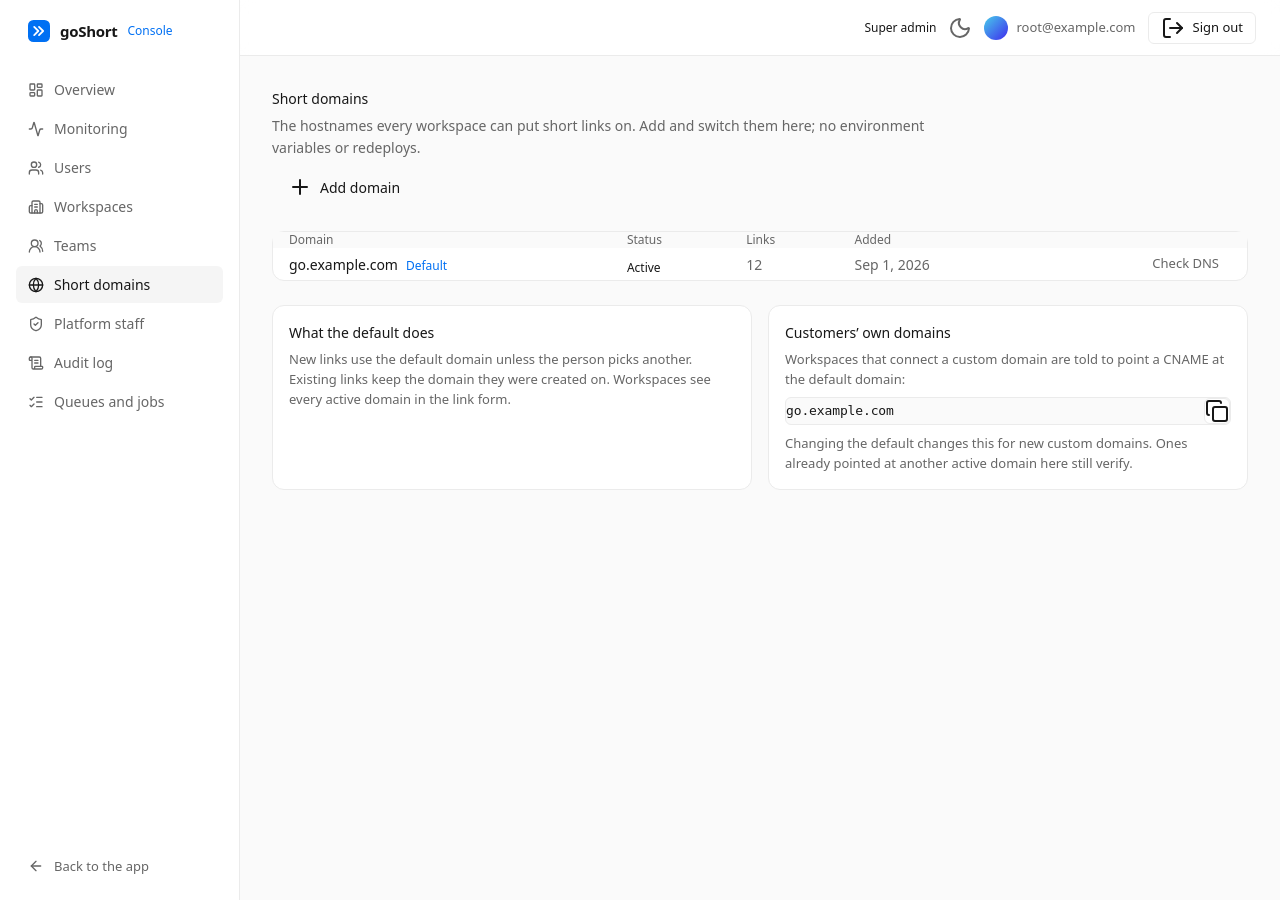
Test: short domains › shows the server’s reason on the field when the name is taken
Click the button "Add domain" at (344, 187), box [272,175,416,199]
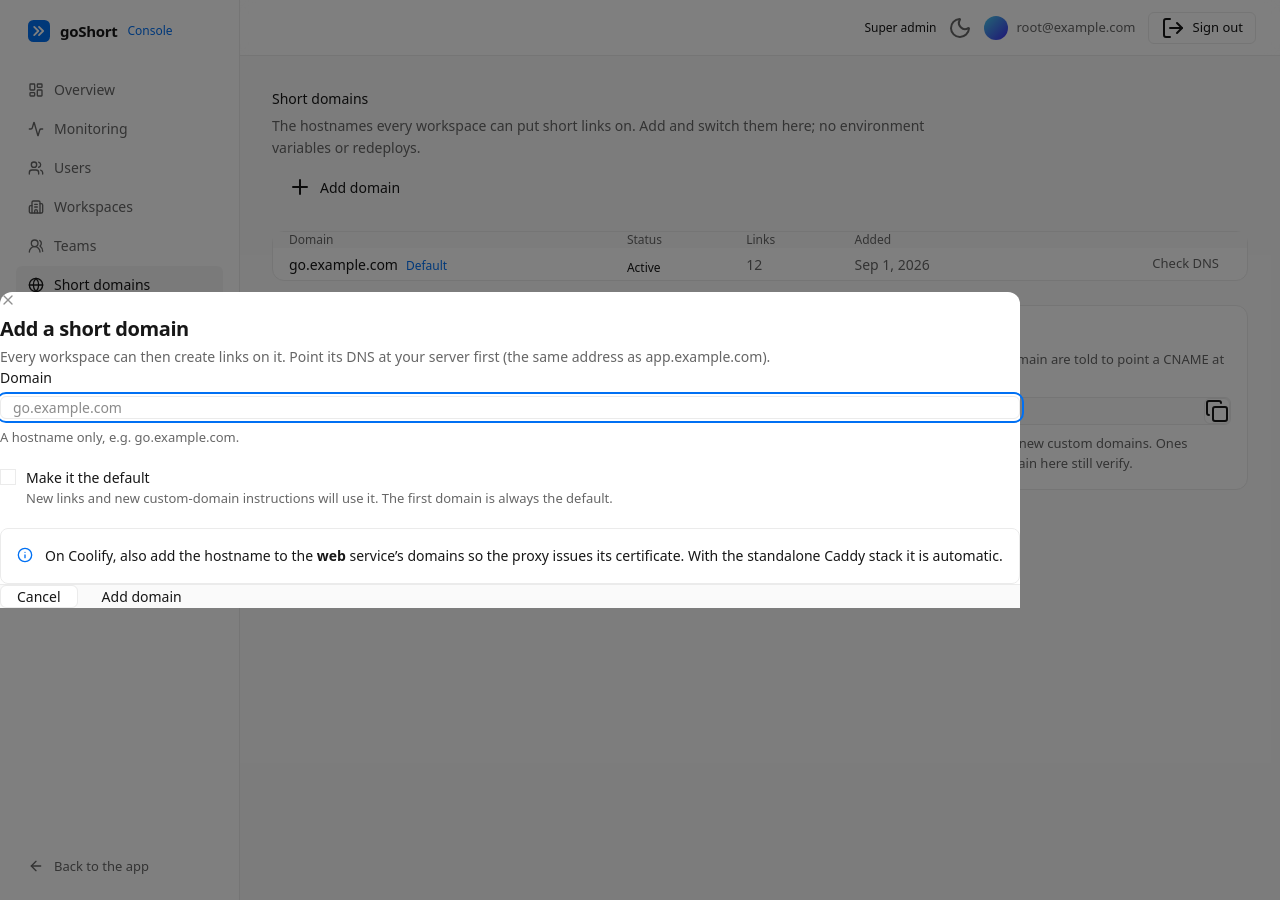
Type "taken.example.com" into the field labelled "Domain" at (510, 408), box [0,396,1020,419]
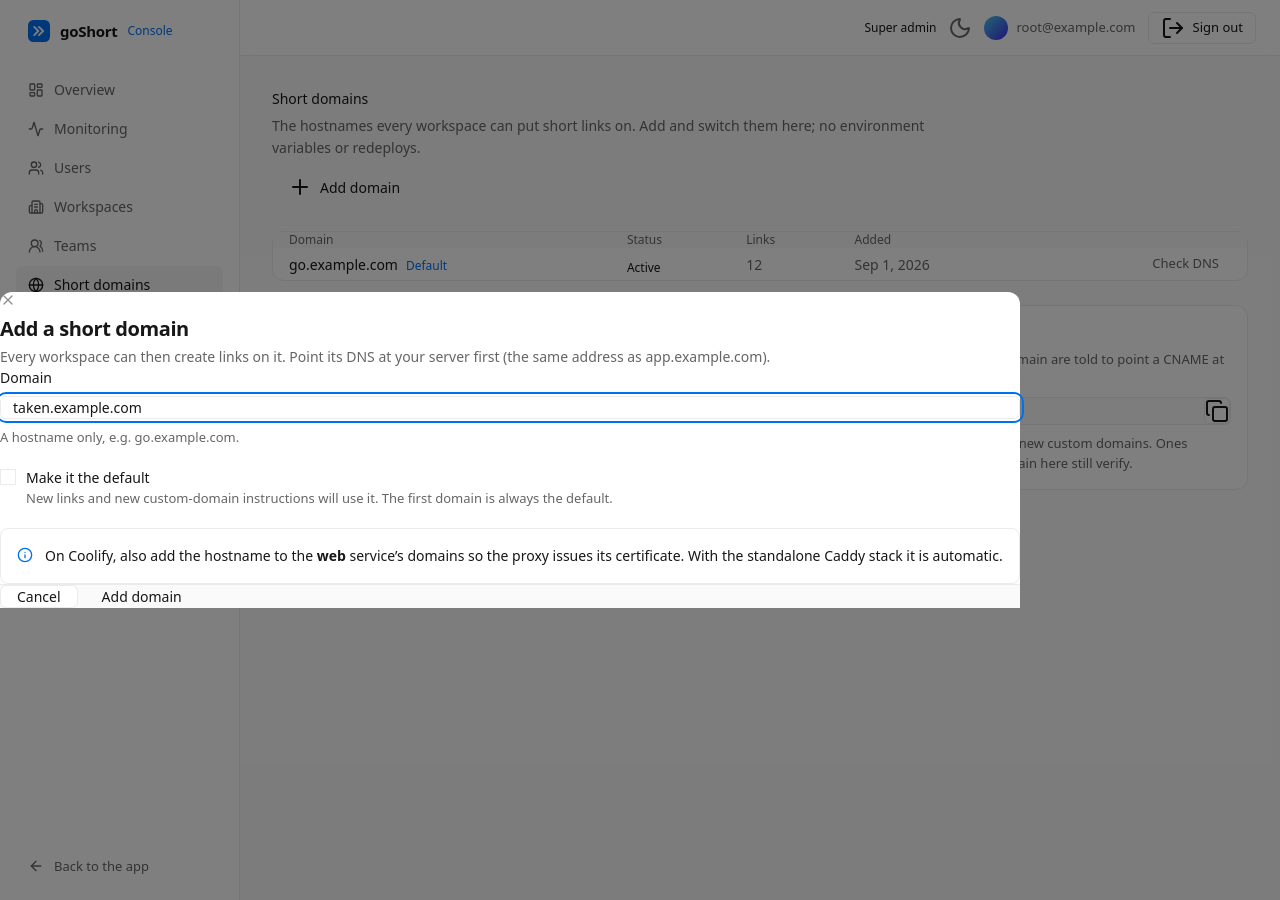
Click the button "Add domain" at (142, 596), box [86,585,198,608]
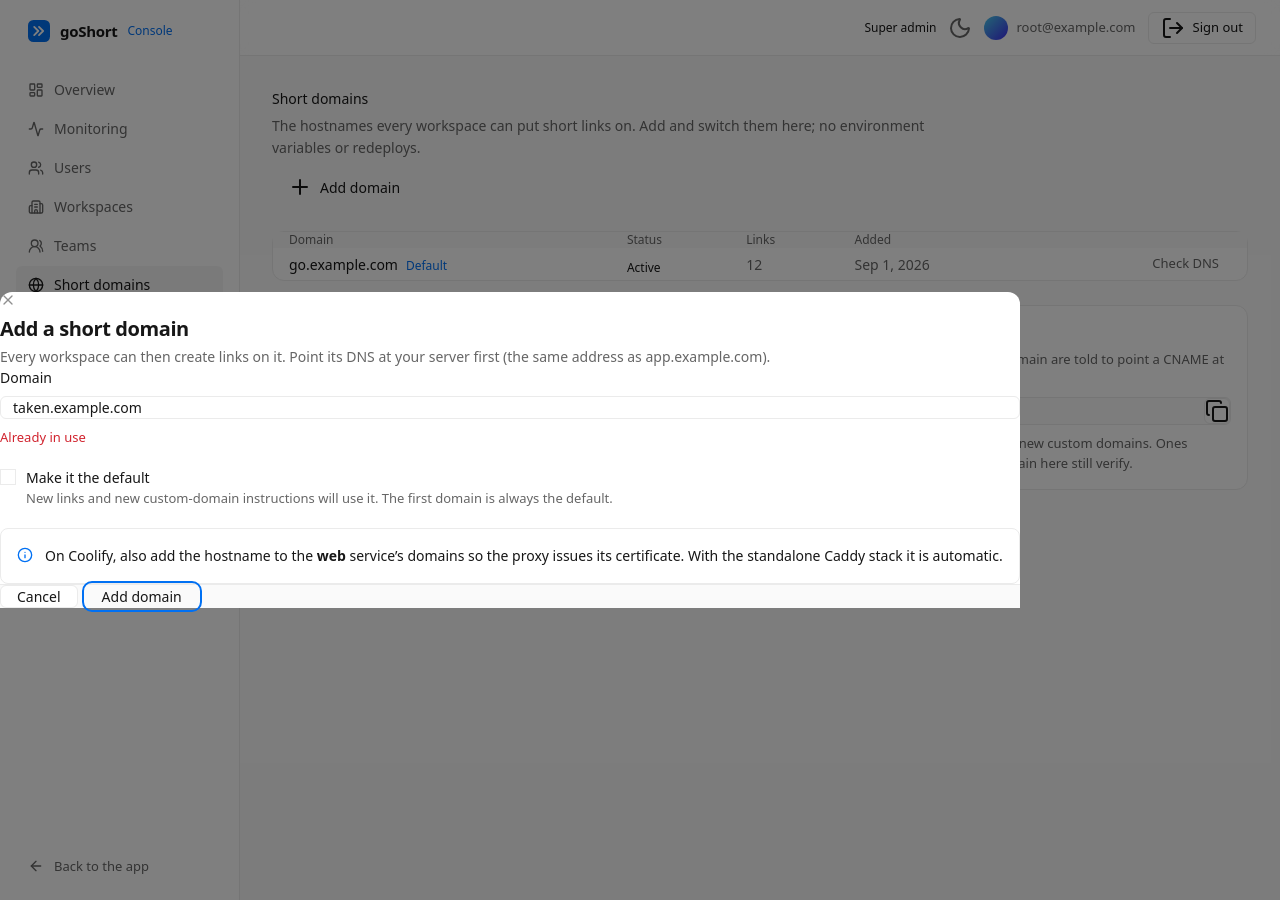
Now the text "Already in use" is shown, box [0,428,86,446]
